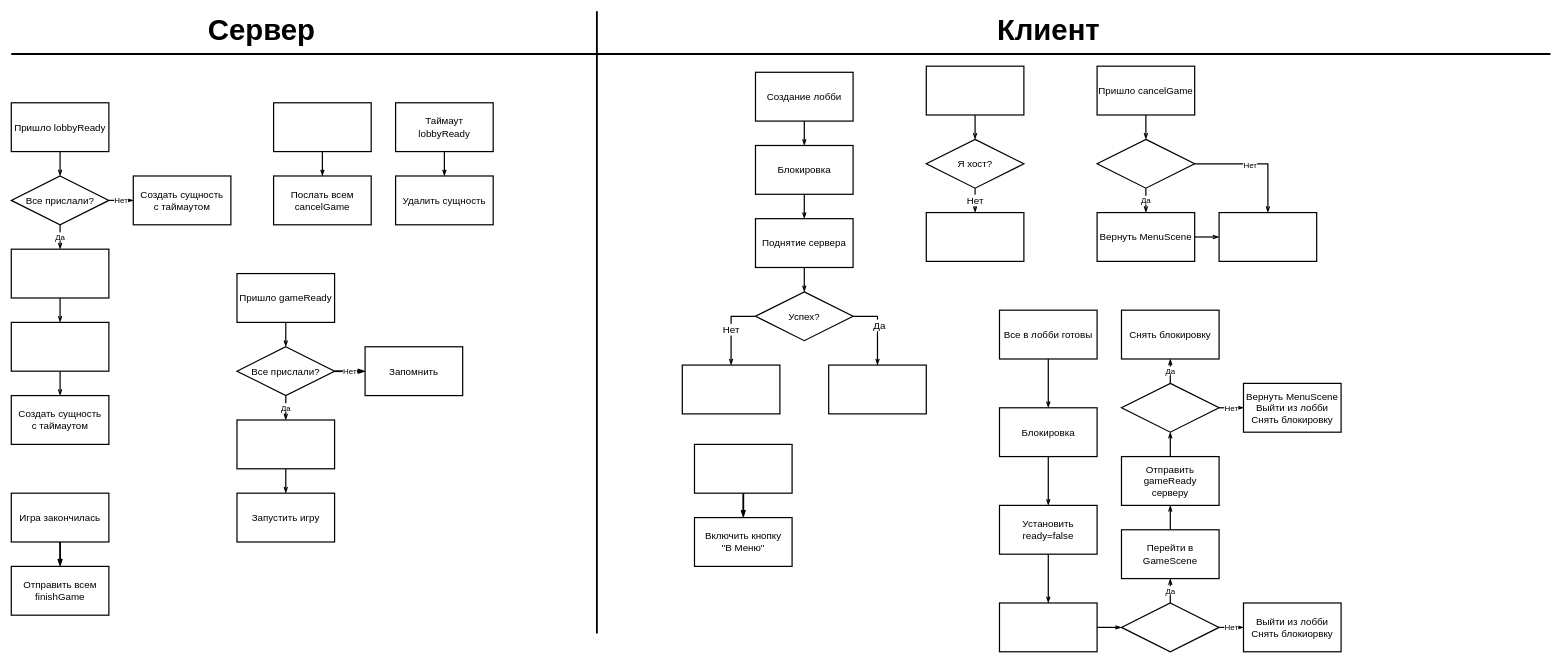
Some shapes in this 1563 by 663 pixel diagram are drawn without their labels. The shapes that lost their labels are listed below. From the top down, each one's centre as x and y in pixels, then its label:
point 974,90: Подключение к лобби
point 322,127: Таймаут prepareGame
point 1145,163: В GameScene?
point 974,237: Отправить ping хосту
point 1267,237: Выйти из лобби
point 59,273: Создать игру
point 59,346: Отправить всем prepareGame
point 730,389: Снятие блокировки Выход из лобби
point 877,389: Снятие блокировки
point 1170,407: startGame пришло за 5 сек?
point 285,444: Отправить всем startGame
point 743,468: Пришло finishGame
point 1048,627: Отправить lobbyReady серверу
point 1170,627: prepareGame пришло за 5 сек?
